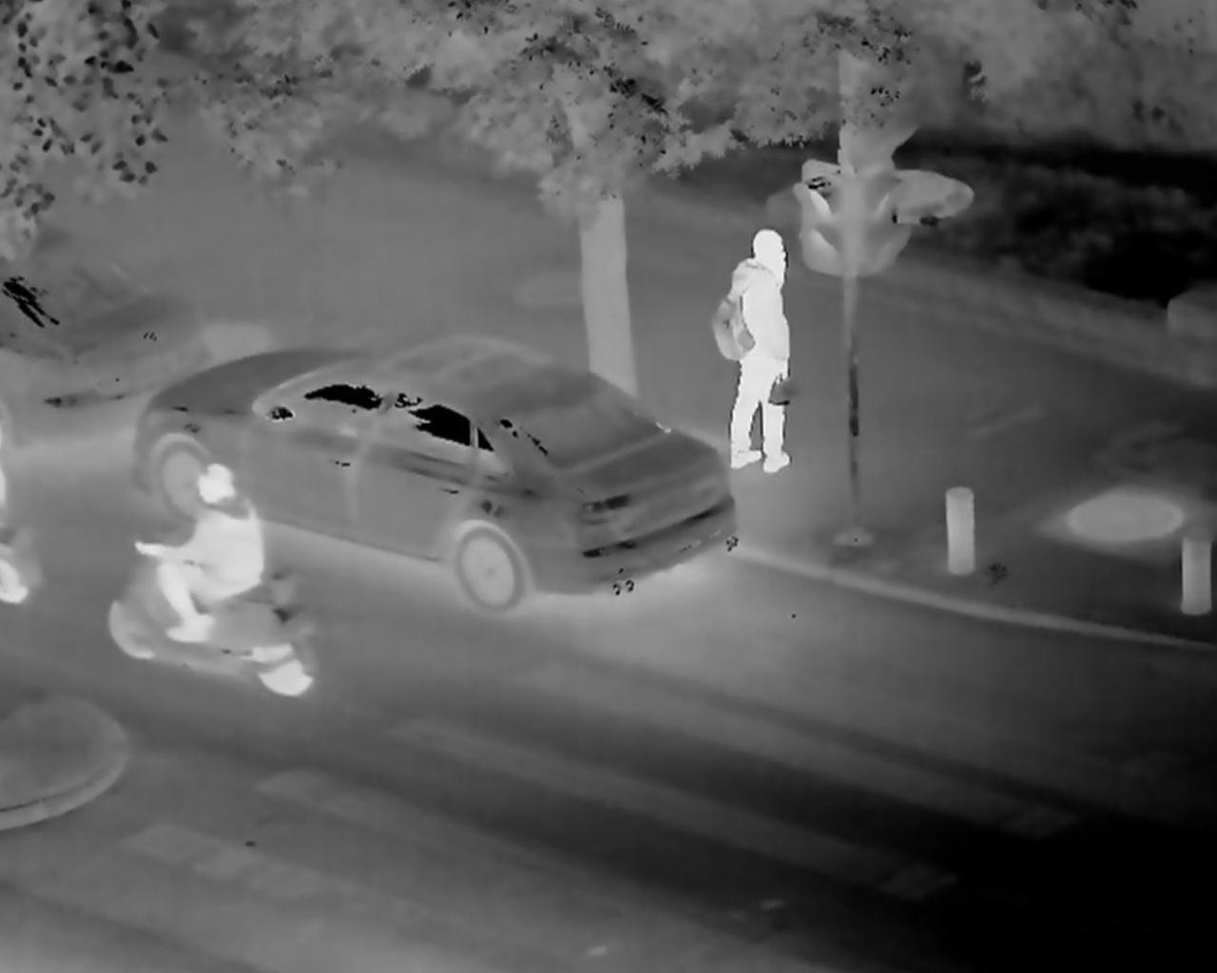person: (141, 459, 278, 644), (714, 228, 802, 486)
